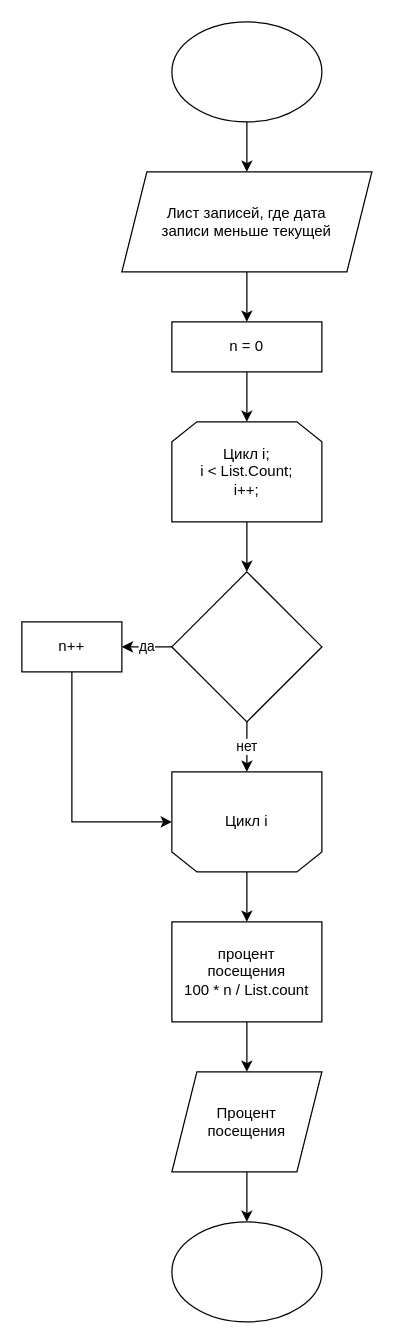
The diagram is 394 pixels wide and 1344 high, and some of its shapes have lost their labels. Each missing label, with the box of its shape:
Дата посещения не равна 0: (171, 571, 322, 722)
Конец: (171, 1221, 322, 1322)
Начало: (171, 21, 322, 122)
